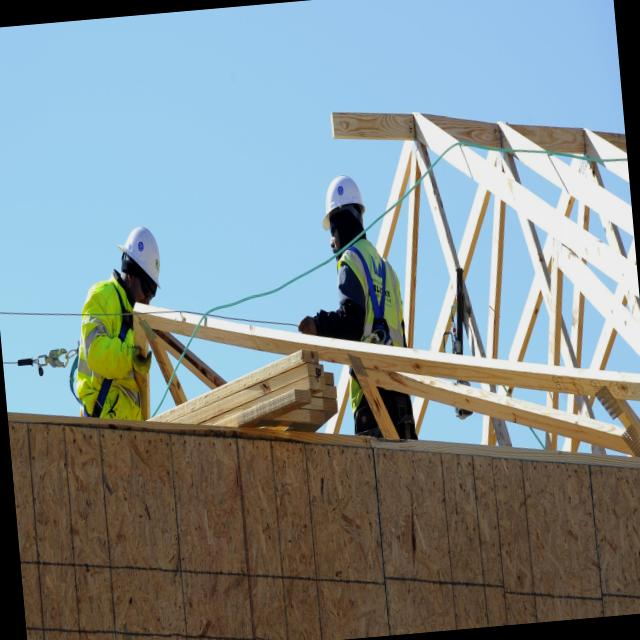goggles: (130, 262, 163, 308)
helmet: (315, 168, 369, 238), (116, 218, 164, 294)
vest: (66, 287, 138, 413), (336, 232, 406, 343)
